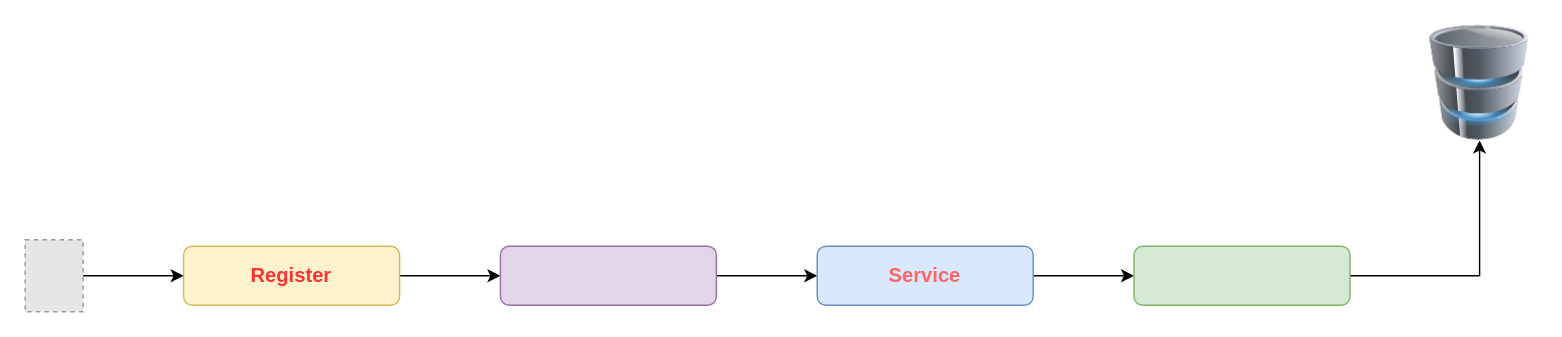
Image size: 1562x337. Some labels were removed from this diagram. Grey dashed boxes stand in for pictures. The shapes that lost their labels are listed below. From the top down, each one's box as (x1, y1, x2, y2) in pixels, then its label:
(499, 245, 716, 305): Controller
(1133, 245, 1350, 305): Repository
